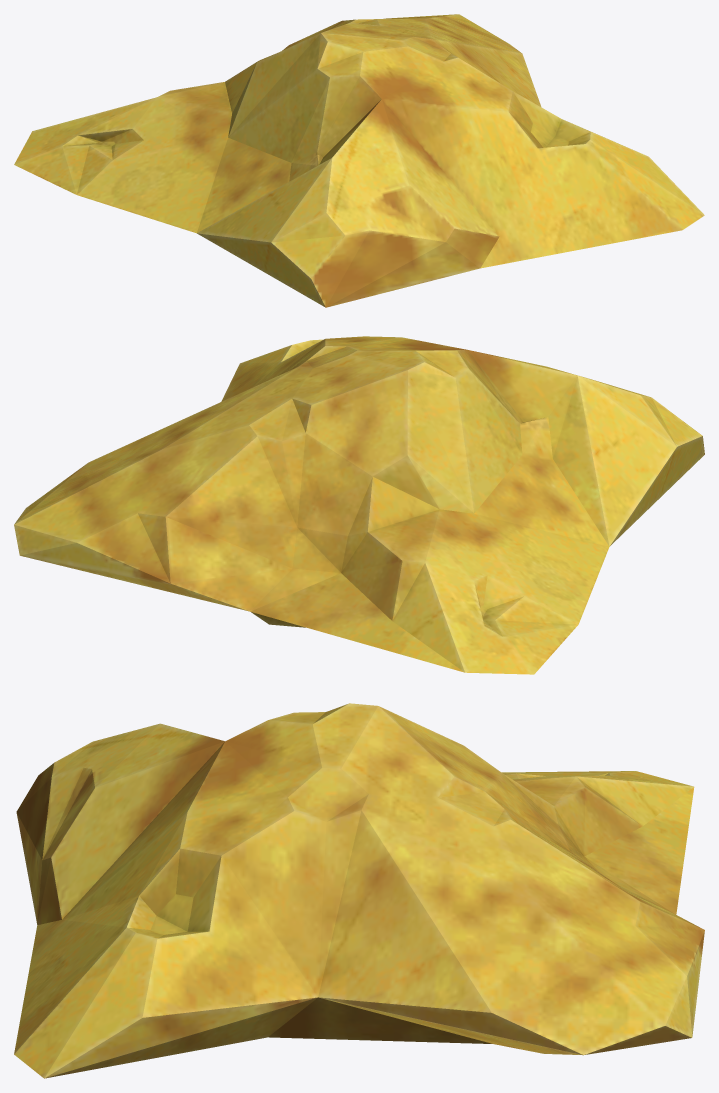
File: GoldJunkCast.glb
3 views of the same model, one above another, from view 1: azimuth 30°, elevation 25°; view 2: azimuth 150°, elevation 25°; view 3: azimuth 270°, elevation 25° (orthographic). The views are drawn at different scales.
Parts seen in each view (by area): view 1: GoldJunkCast; view 2: GoldJunkCast; view 3: GoldJunkCast.
Boxes of the visible parts, x1=… form: GoldJunkCast: x1=14, y1=14, x2=704, y2=307; GoldJunkCast: x1=14, y1=336, x2=704, y2=674; GoldJunkCast: x1=14, y1=703, x2=704, y2=1078.
Size of the model in its own units: 0.5571 by 0.1926 by 0.5258.
Materials: 1 (1 with a texture image).
